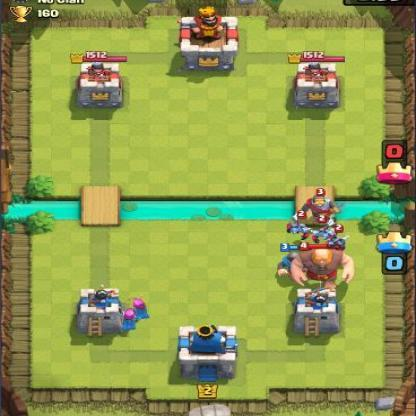ally_archer: (125, 296, 156, 323), (116, 304, 142, 331)
ally_knight: (275, 243, 318, 280)
enemy_giant: (288, 240, 358, 293)
enemy_knight: (293, 187, 346, 223)
enemy_minion: (308, 212, 342, 245), (322, 222, 352, 254), (284, 209, 313, 238)
